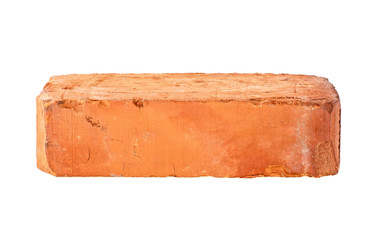brick: (37, 93, 341, 177)
